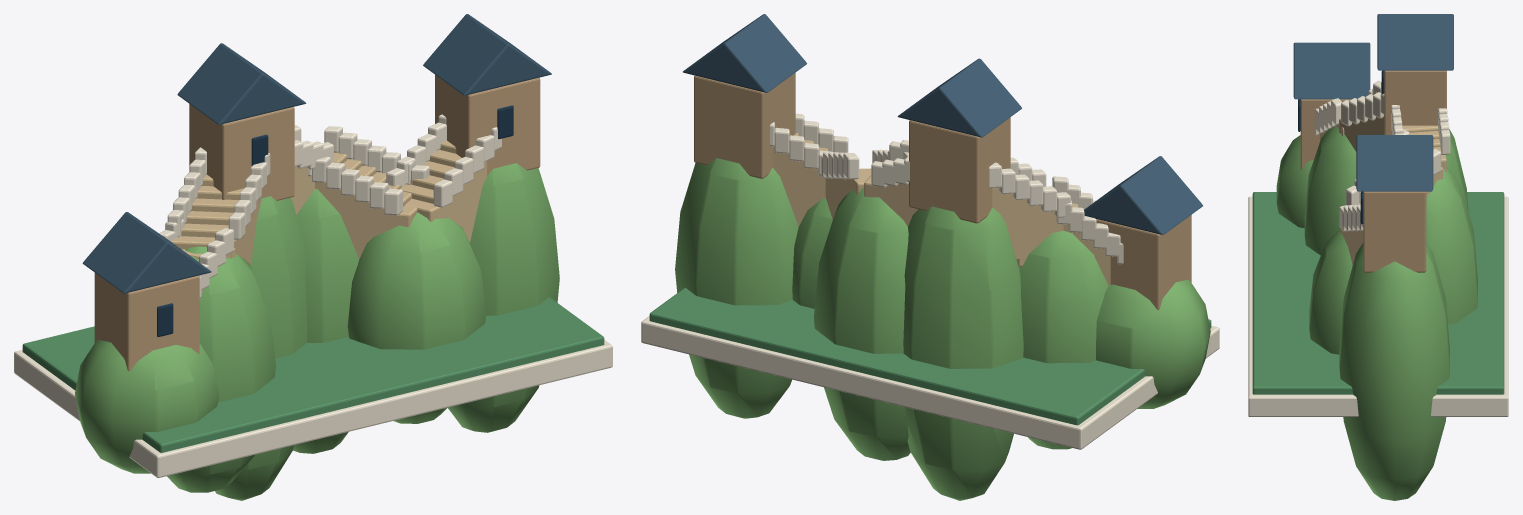
The model's file is great-wall-of-china.glb.
3 renders of one model, left to right at view 1: azimuth 30°, elevation 25°; view 2: azimuth 150°, elevation 25°; view 3: azimuth 270°, elevation 25°, orthographic. The views are drawn at different scales.
Parts seen in each view (by area): view 1: Great Wall of China; view 2: Great Wall of China; view 3: Great Wall of China.
Part boxes in pixels (left/top/right/bottom): Great Wall of China: left=14, top=14, right=612, bottom=500; Great Wall of China: left=641, top=14, right=1219, bottom=500; Great Wall of China: left=1248, top=14, right=1508, bottom=500.
Size of the model in its own units: 1.64 by 1.37 by 0.8064.
